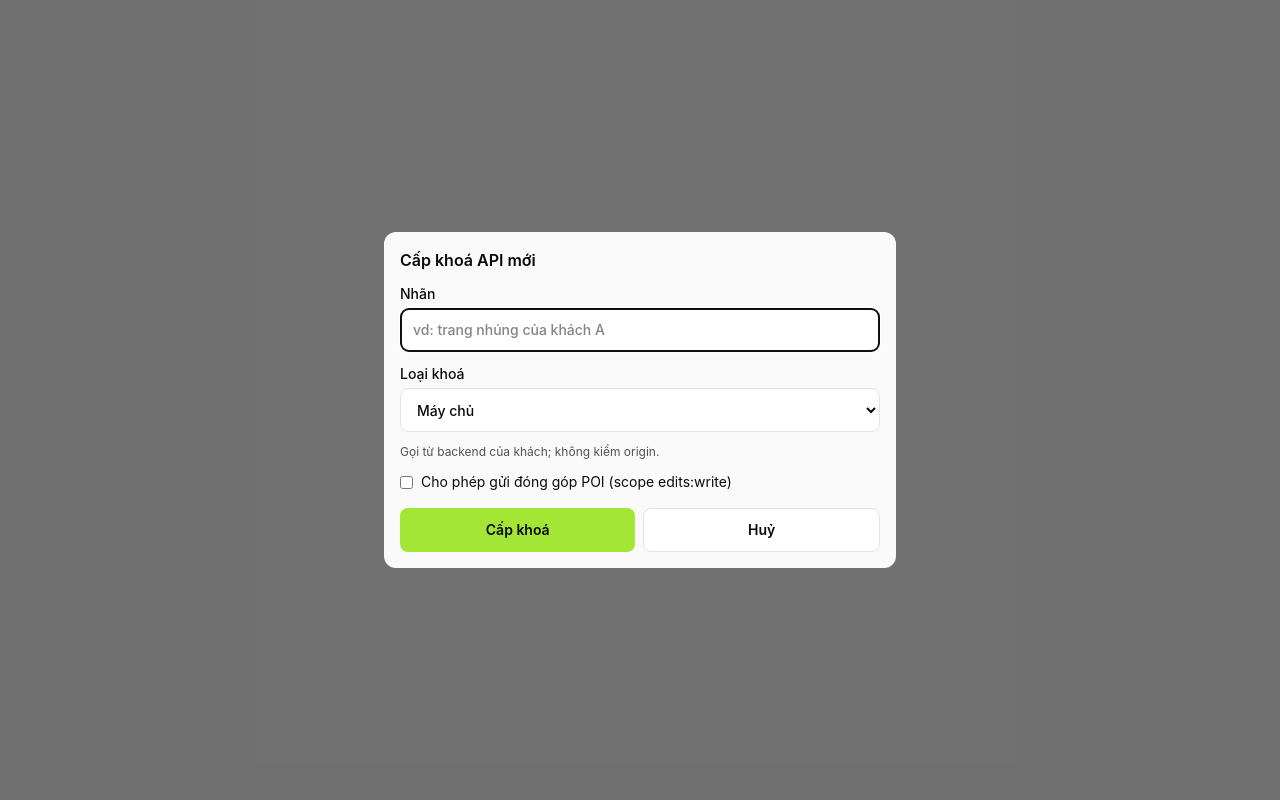
NewKeyDialog › chọn loại "Trang web" thì hiện ô origin và không cho gửi khi bỏ trống
The width and height of the screenshot is (1280, 800).
Type "trang nhúng khách" into the field labelled "Nhãn" at (640, 330), box [400,308,880,352]
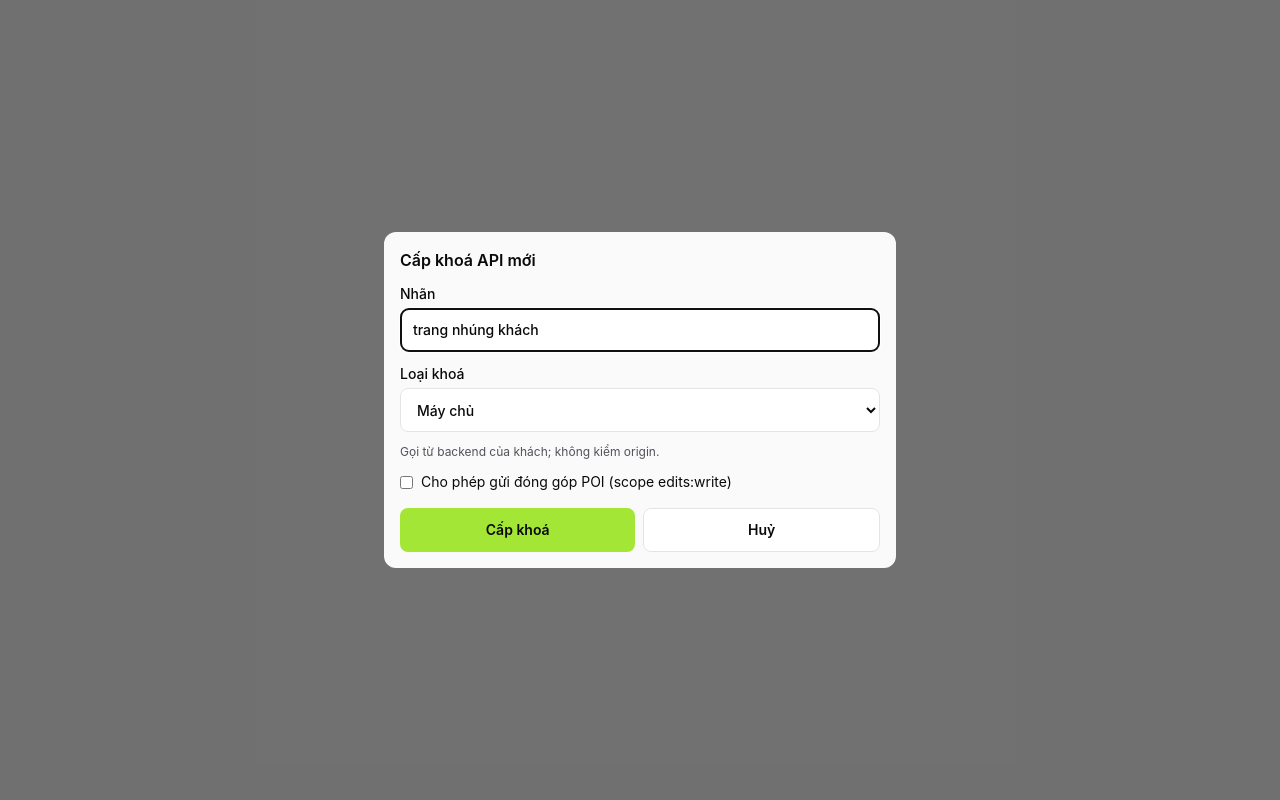
Select "Trang web" in the dropdown labelled "Loại khoá" at (640, 410), box [400,388,880,432]
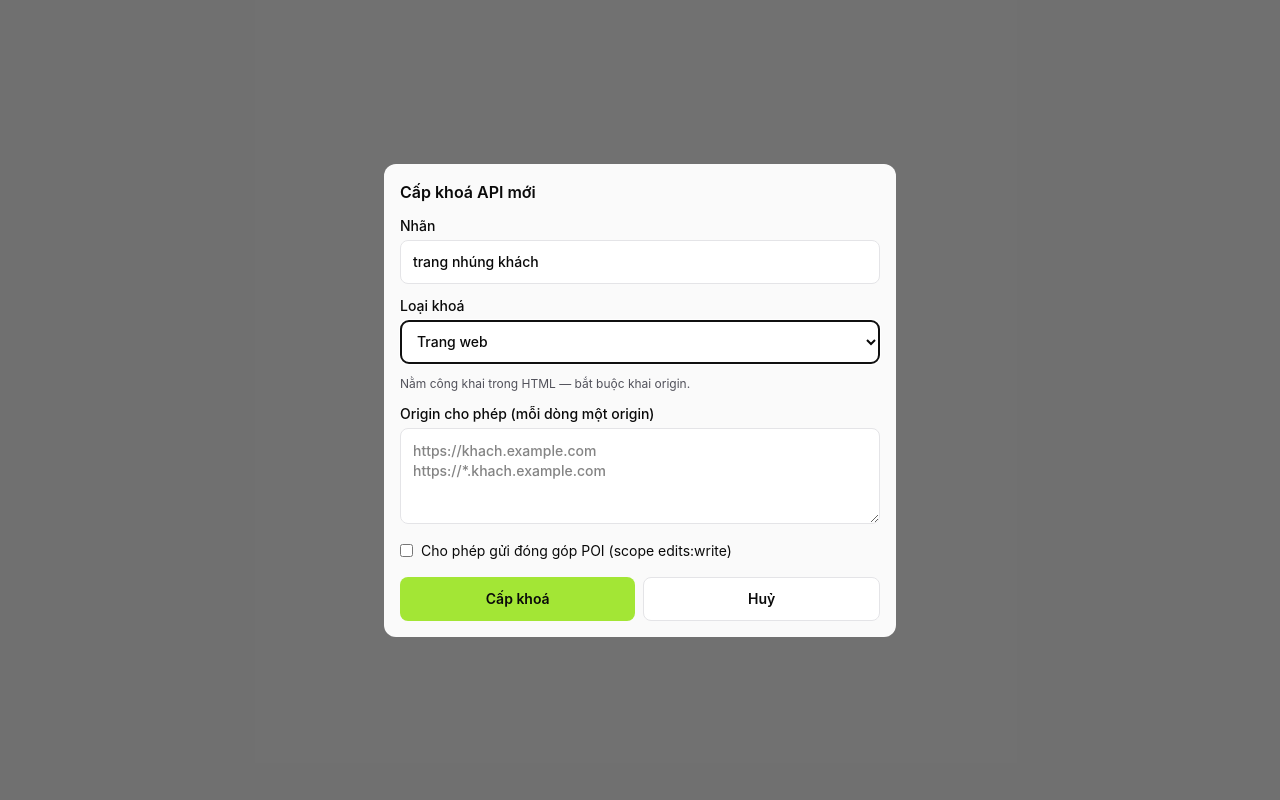
Click the button "Cấp khoá" at (518, 598), box [400,576,636,620]
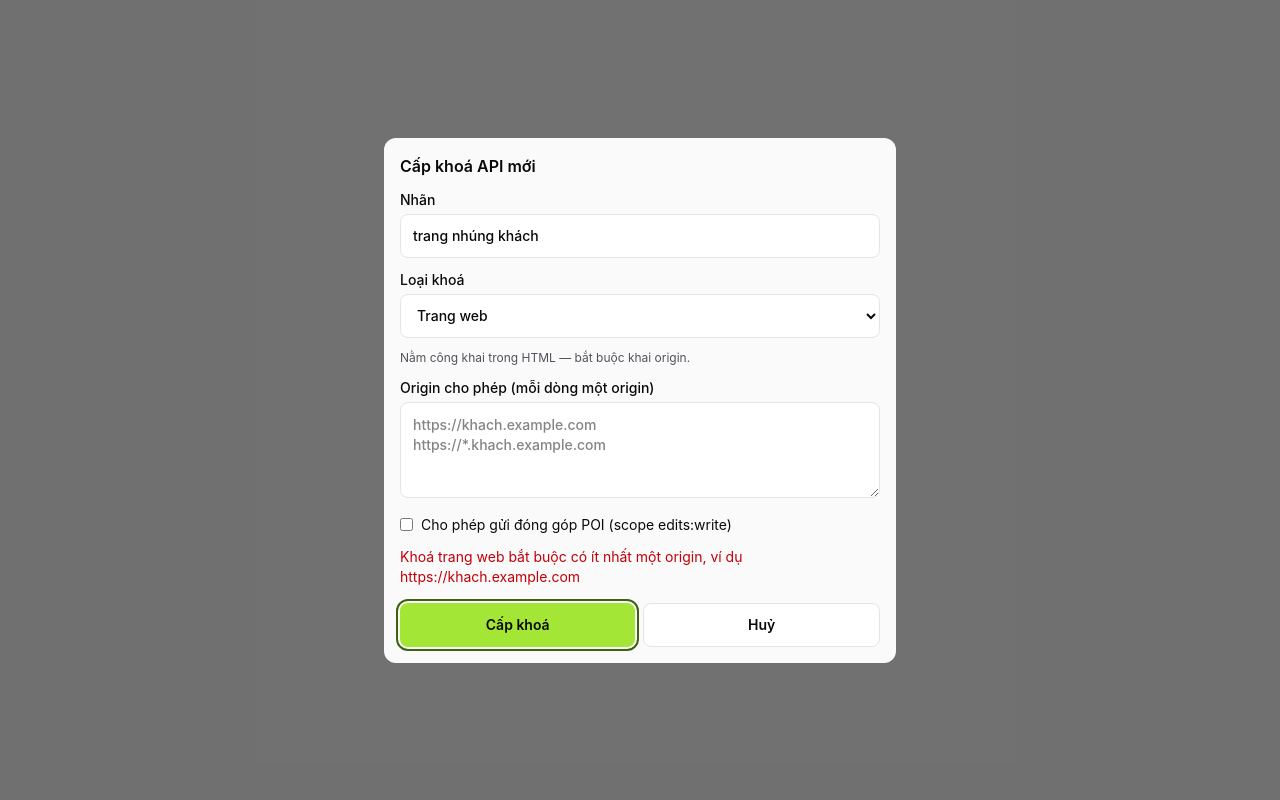
Result: the message shows "bắt buộc có ít nhất một origin" at [400,548,742,584]
